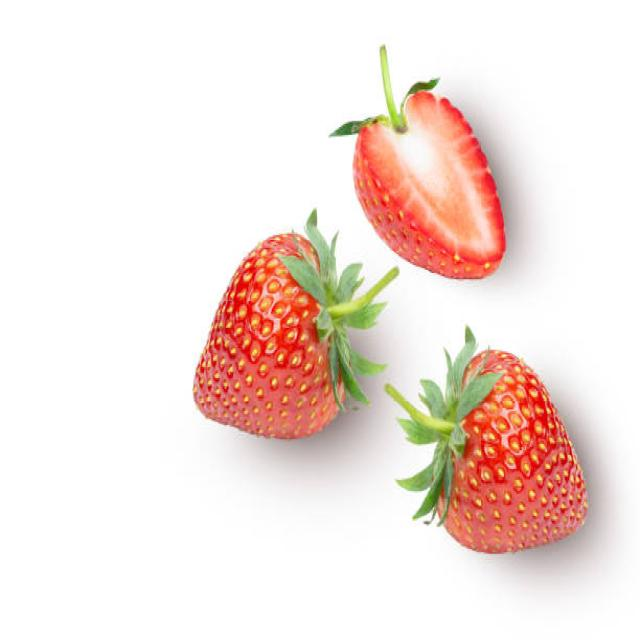Healthy Fruit: (434, 348, 589, 555), (193, 232, 346, 440)
